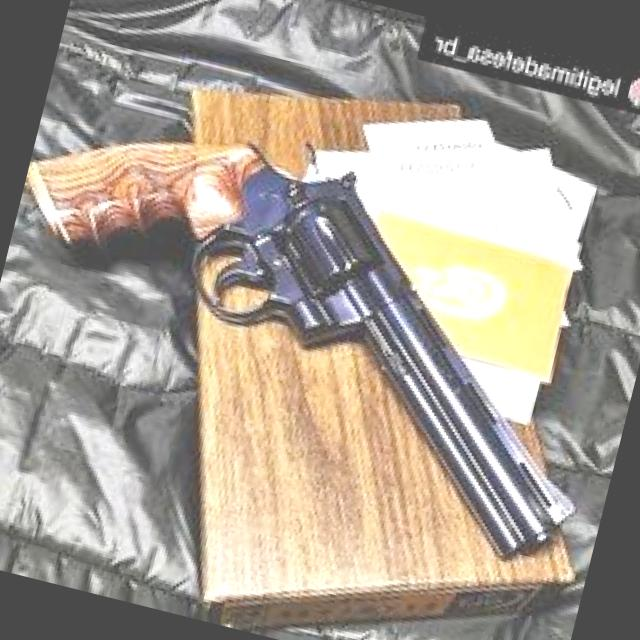revolver: (0, 69, 640, 580)
